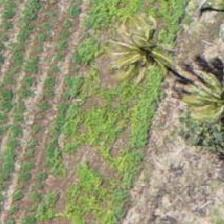coconut_tree: (118, 5, 208, 95), (177, 58, 223, 148)
